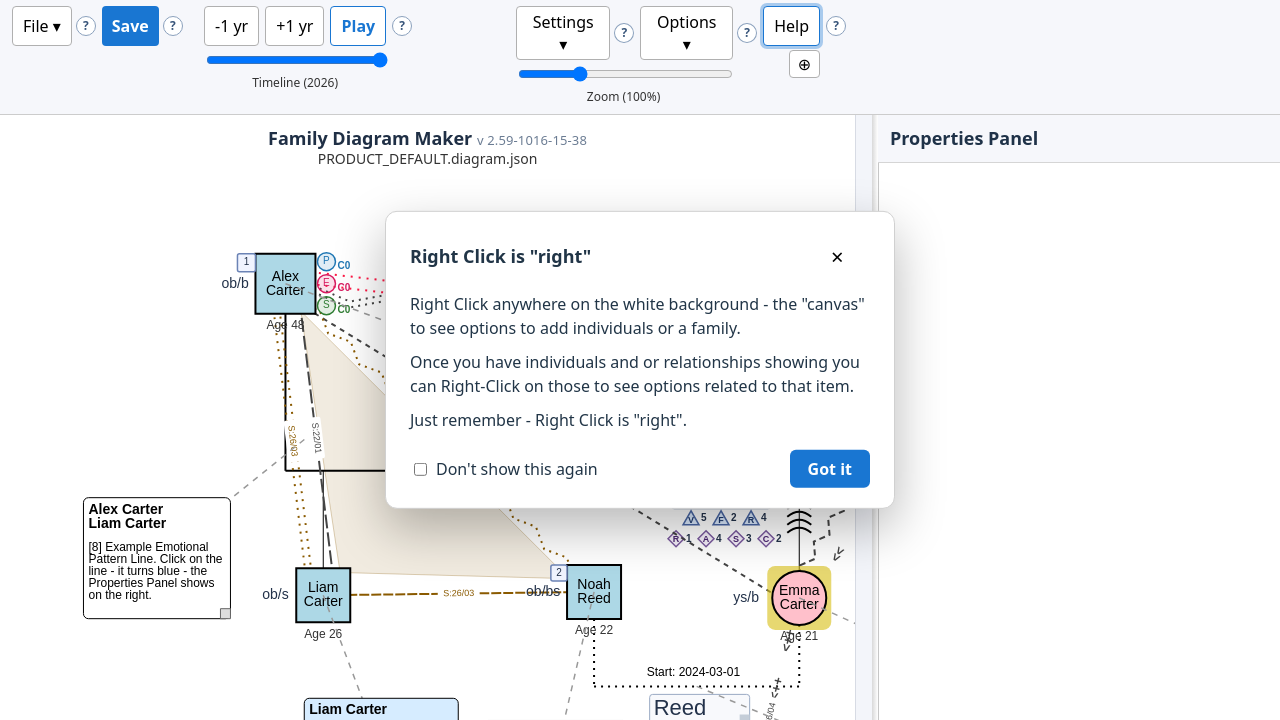
Test: Universal Interaction › opens the canvas context menu on right click
The width and height of the screenshot is (1280, 720).
Right-click the drawing: coordinates (20, 135) top-left (0, 115), bottom-right (855, 719)
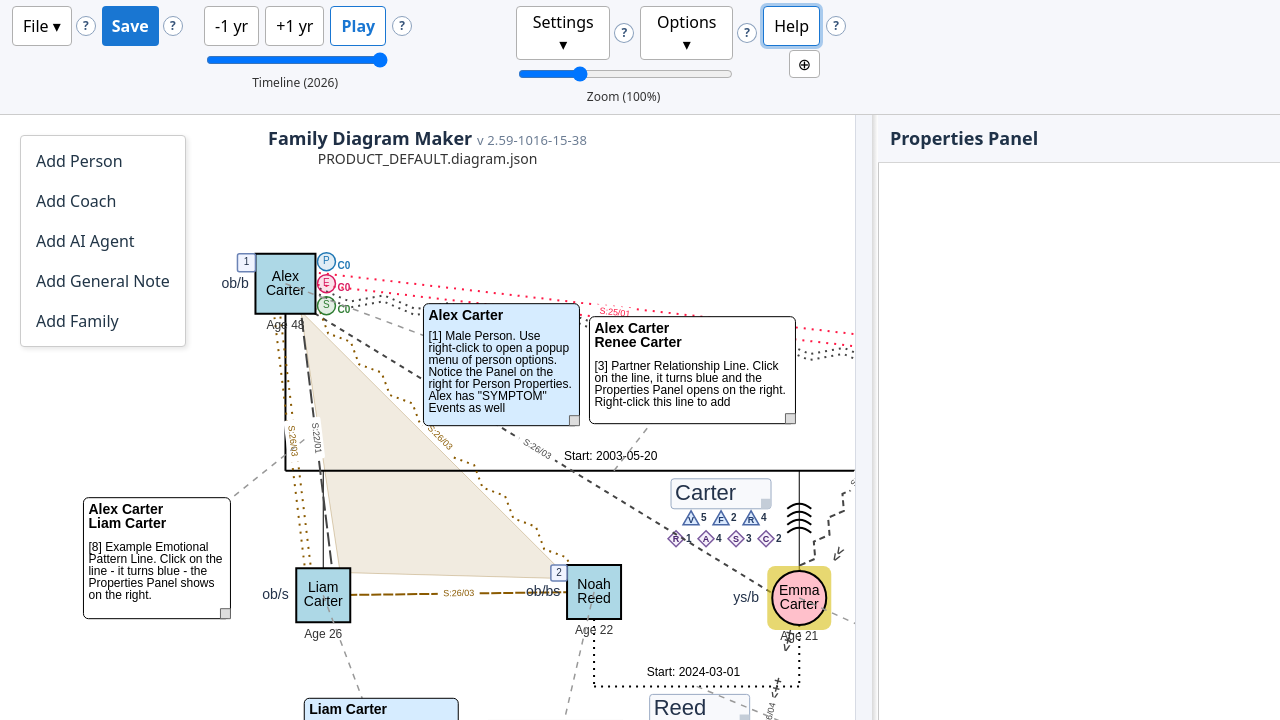
expect the text "Add Person" is shown: met, box top-left (36, 150), bottom-right (123, 172)
